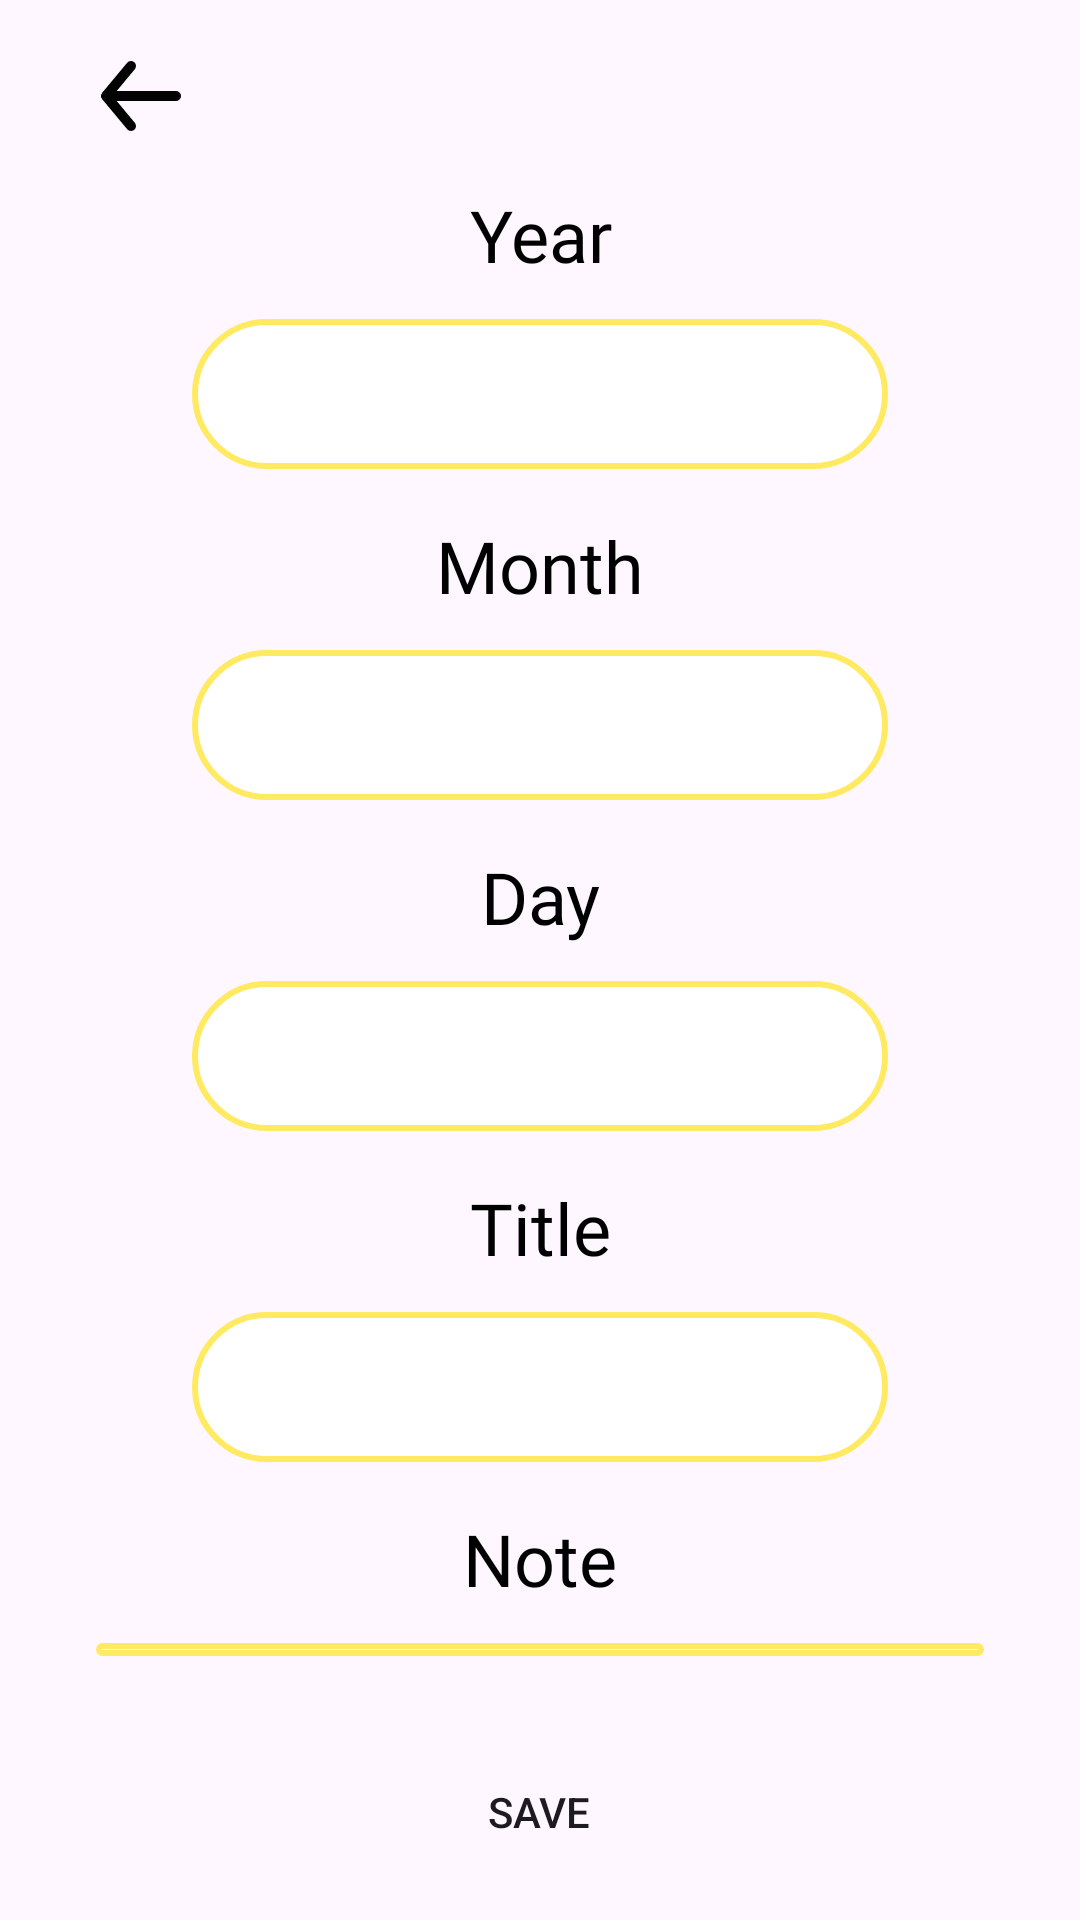

Icons on this 1080 x 1920 Android screen, each with the point to tap as point (x, y):
back arrow: point (141, 96)
